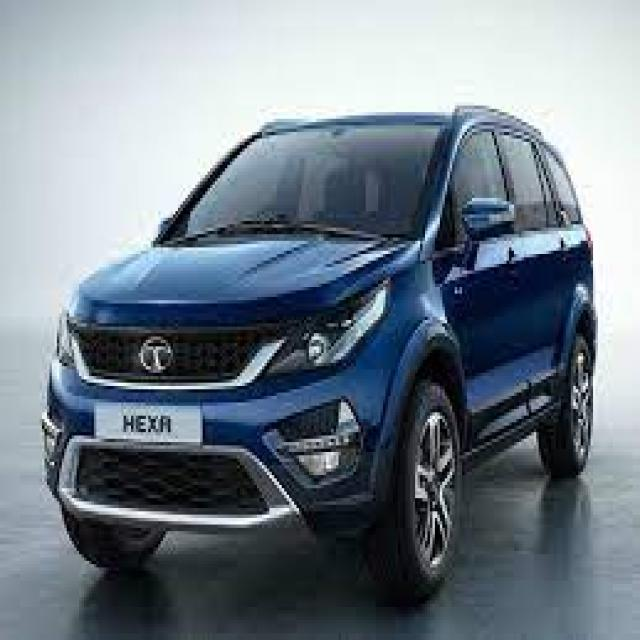Car: (37, 99, 602, 584)
